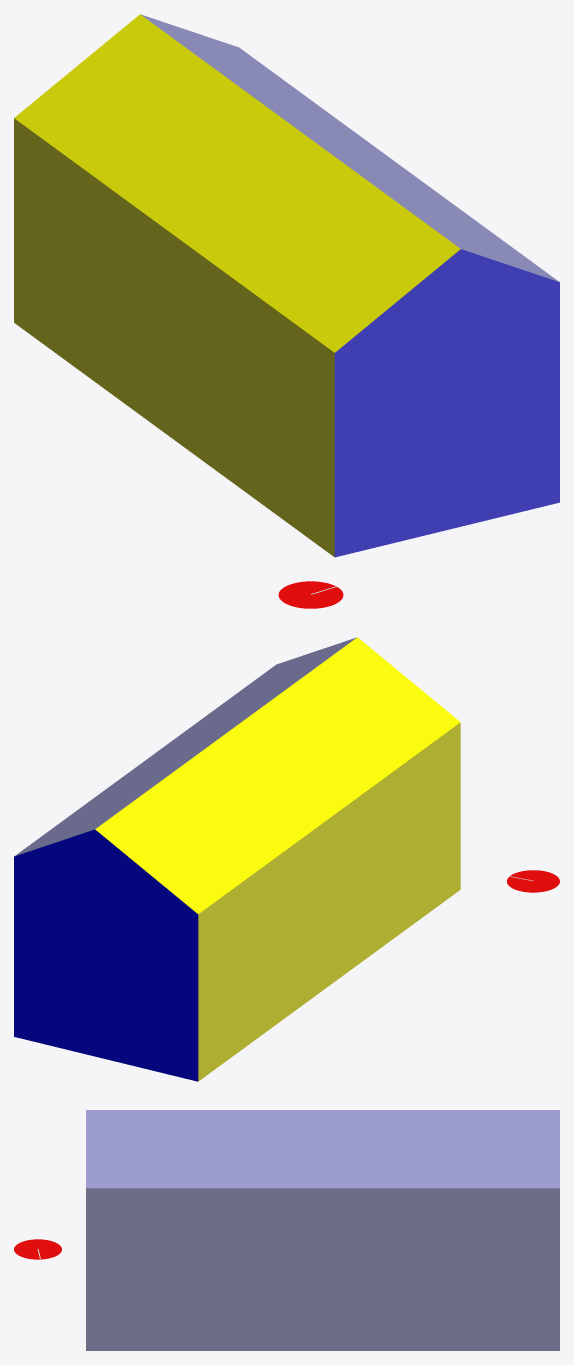
Rendered from result.glb.
The picture shows the model from 3 angles, top to bottom: view 1: azimuth 30°, elevation 25°; view 2: azimuth 150°, elevation 25°; view 3: azimuth 270°, elevation 25°; orthographic projection. The views are drawn at different scales.
Parts seen in each view (by area): view 1: 7f098bca-b12c-47c9-b49c-7bde76af3dcc__undefined, 9cfd8165-e792-4a20-a3b9-47340c418867__undefined, 19166bdc-a947-4729-b27f-1838a3a737f0__undefined, 74c0fd17-5fb9-4976-8fbc-d117094d6daa__undefined, 6132ef20-1085-480c-9a02-6fea24e69caf__Circle; view 2: 7f098bca-b12c-47c9-b49c-7bde76af3dcc__undefined, 9cfd8165-e792-4a20-a3b9-47340c418867__undefined, d316a367-454e-4b7a-a150-2e44f535eb18__undefined, 74c0fd17-5fb9-4976-8fbc-d117094d6daa__undefined, 6132ef20-1085-480c-9a02-6fea24e69caf__Circle; view 3: 3baa747f-418e-48f9-851d-3f068046f2e3__undefined, 74c0fd17-5fb9-4976-8fbc-d117094d6daa__undefined, 6132ef20-1085-480c-9a02-6fea24e69caf__Circle.
Boxes of the visible parts, x1=… form: 7f098bca-b12c-47c9-b49c-7bde76af3dcc__undefined: x1=14, y1=118, x2=334, y2=556; 9cfd8165-e792-4a20-a3b9-47340c418867__undefined: x1=14, y1=14, x2=460, y2=352; 19166bdc-a947-4729-b27f-1838a3a737f0__undefined: x1=334, y1=249, x2=559, y2=557; 74c0fd17-5fb9-4976-8fbc-d117094d6daa__undefined: x1=141, y1=14, x2=558, y2=281; 6132ef20-1085-480c-9a02-6fea24e69caf__Circle: x1=278, y1=581, x2=343, y2=608; 7f098bca-b12c-47c9-b49c-7bde76af3dcc__undefined: x1=198, y1=722, x2=460, y2=1081; 9cfd8165-e792-4a20-a3b9-47340c418867__undefined: x1=95, y1=637, x2=460, y2=914; d316a367-454e-4b7a-a150-2e44f535eb18__undefined: x1=14, y1=829, x2=198, y2=1081; 74c0fd17-5fb9-4976-8fbc-d117094d6daa__undefined: x1=14, y1=637, x2=356, y2=856; 6132ef20-1085-480c-9a02-6fea24e69caf__Circle: x1=507, y1=870, x2=559, y2=892; 3baa747f-418e-48f9-851d-3f068046f2e3__undefined: x1=86, y1=1188, x2=559, y2=1350; 74c0fd17-5fb9-4976-8fbc-d117094d6daa__undefined: x1=86, y1=1110, x2=559, y2=1188; 6132ef20-1085-480c-9a02-6fea24e69caf__Circle: x1=14, y1=1239, x2=61, y2=1259.
Bounding box in the file's own units: 550 × 471 × 1137.
